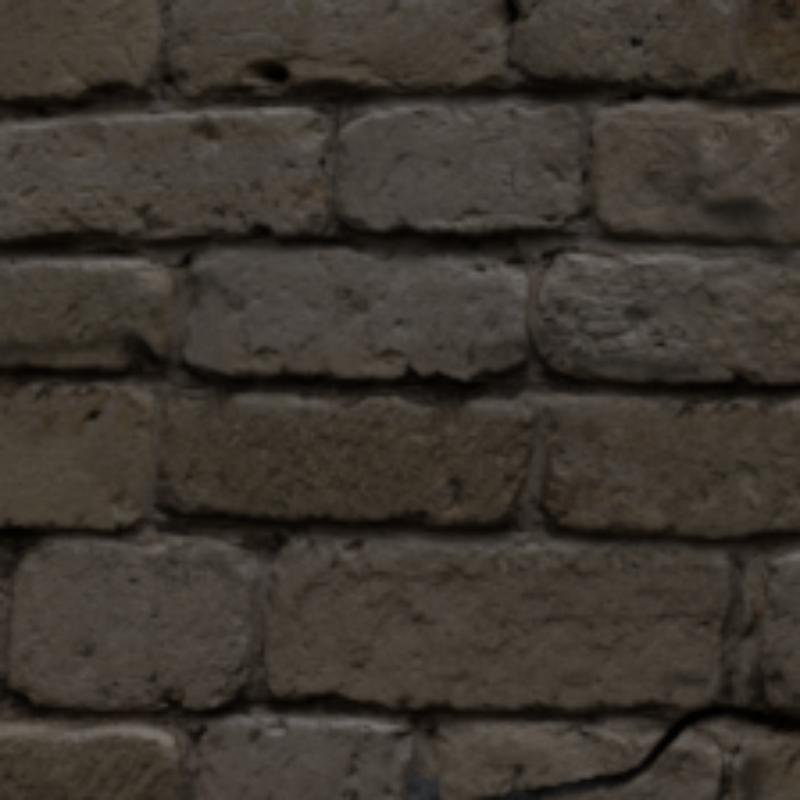pothole: (526, 704, 798, 797)
